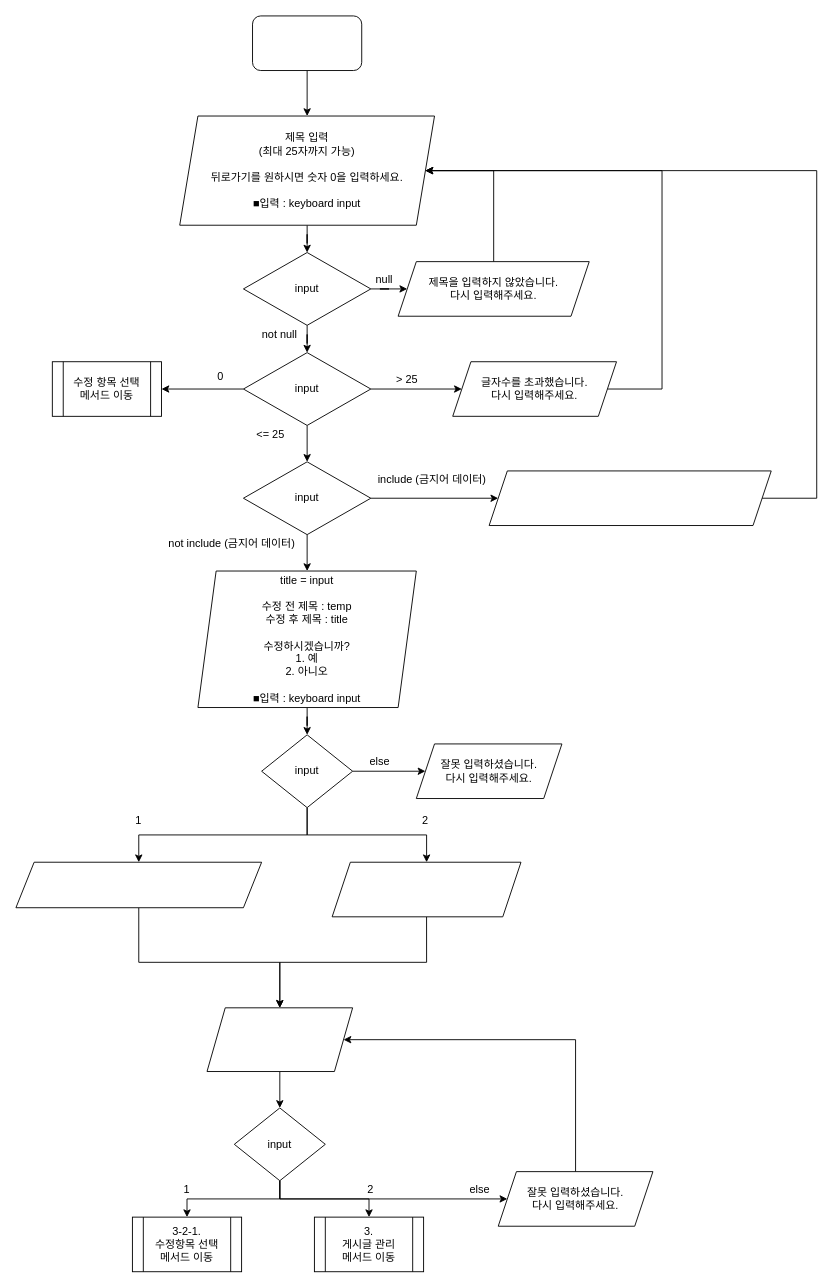
This 840x1288 diagram has some shape labels left out. The shapes that lost their labels are listed below. From the top down, each one's centre as x and y in pixels, then its label:
At (x=307, y=43): "제목 수정 메서드 진입".
At (x=629, y=498): "제목에 금지어 (금지어데이터) 입력되었습니다. 다시 입력해주세요.".
At (x=138, y=884): "제목이 title 수정되었습니다.".
At (x=426, y=889): "title = temp 수정이 취소되었습니다.".
At (x=279, y=1039): "1. 추가 수정하기 2. 나가기 ■입력 : keyboard input".
